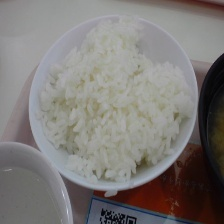rice: (37, 15, 192, 184)
